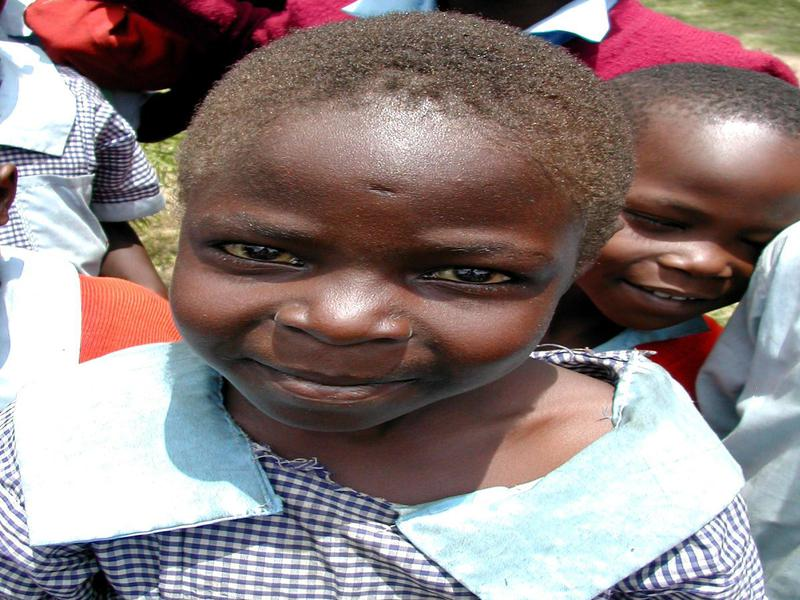person: (8, 8, 739, 600), (565, 51, 800, 392)
